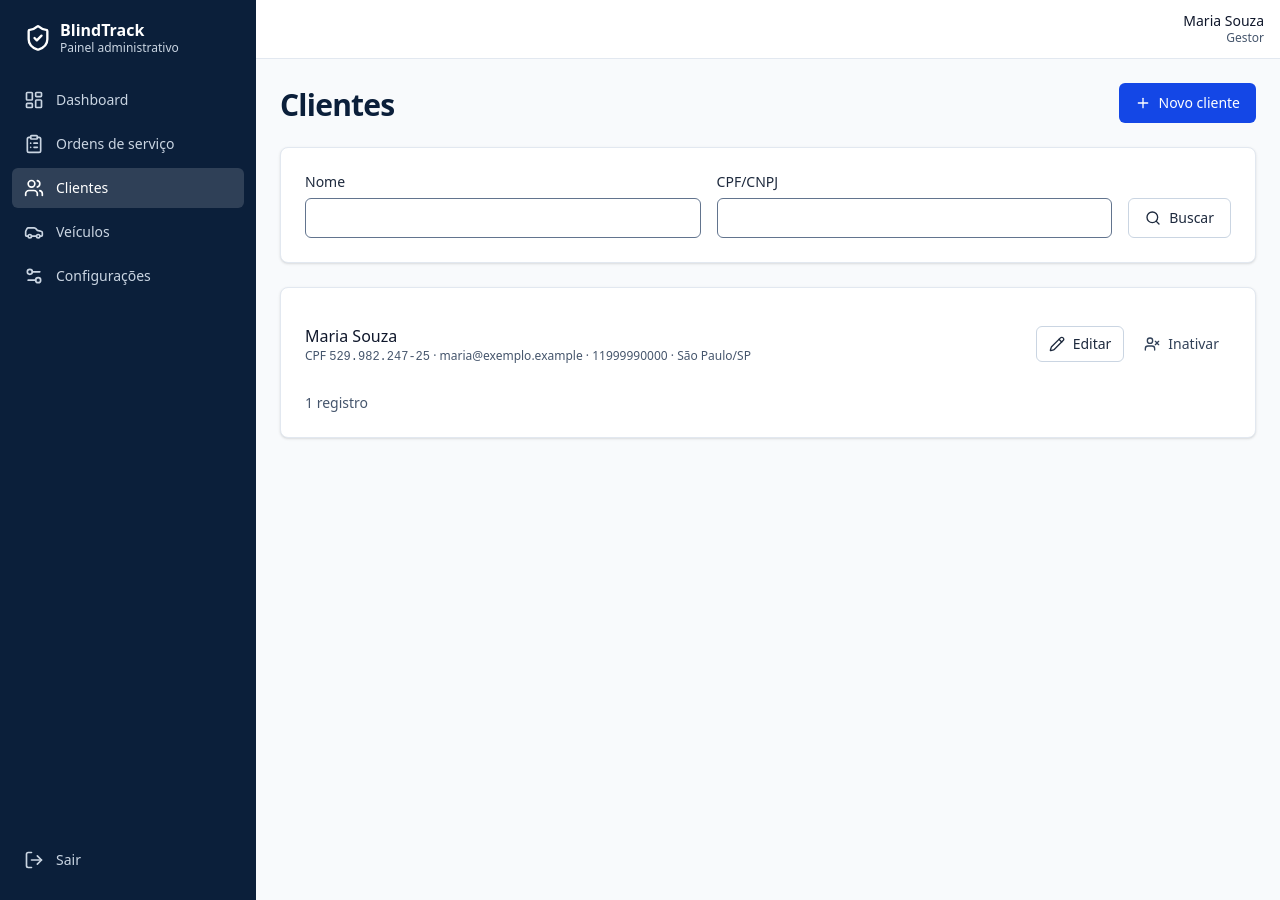
Test case: Clientes › inativar cliente com OS em aberto mostra a regra RN36
Click the button with aria-label "Inativar Maria Souza".
click(1182, 344)  # box left=1132, top=326, right=1231, bottom=362
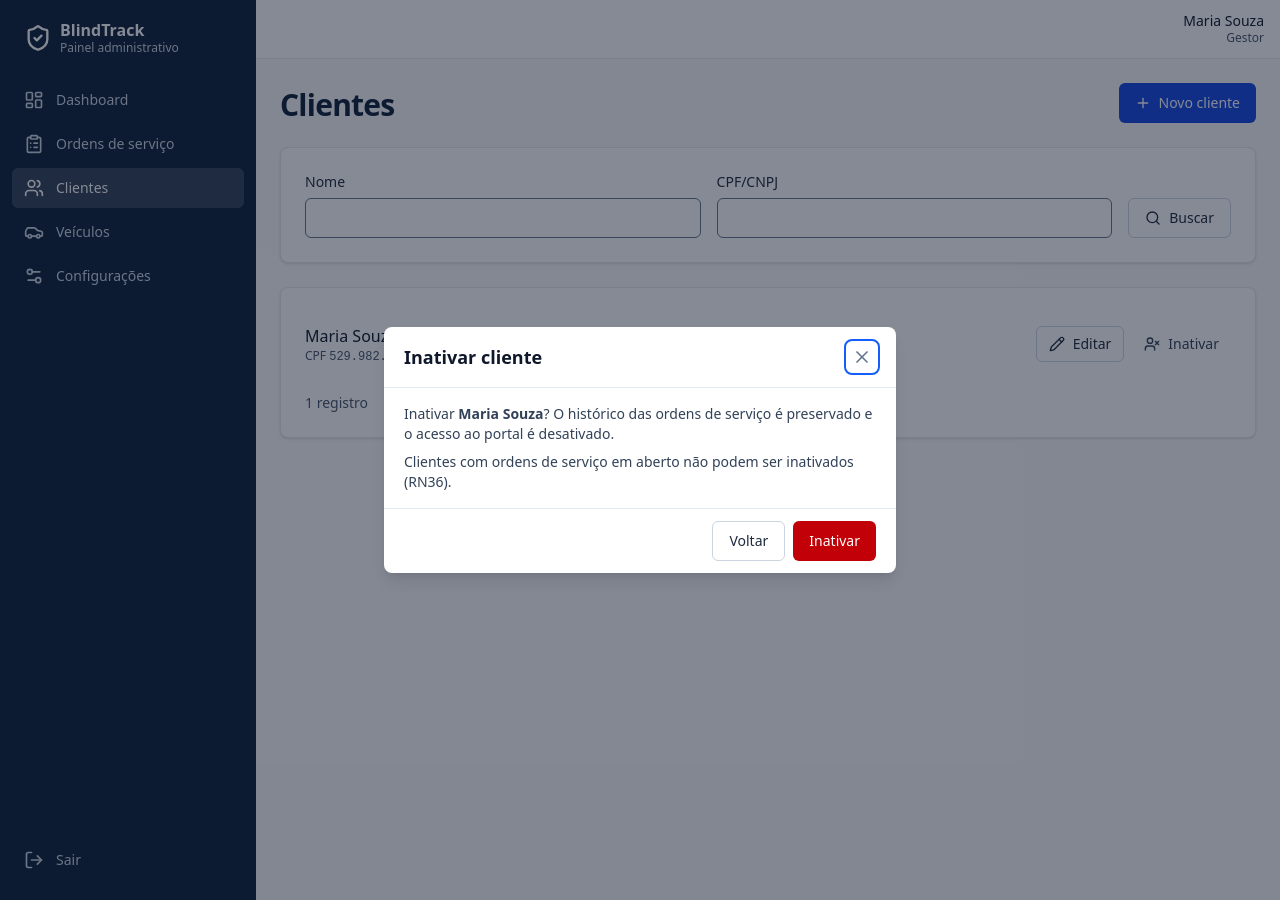
Click the button "Inativar".
click(835, 541)  # box left=793, top=521, right=876, bottom=561
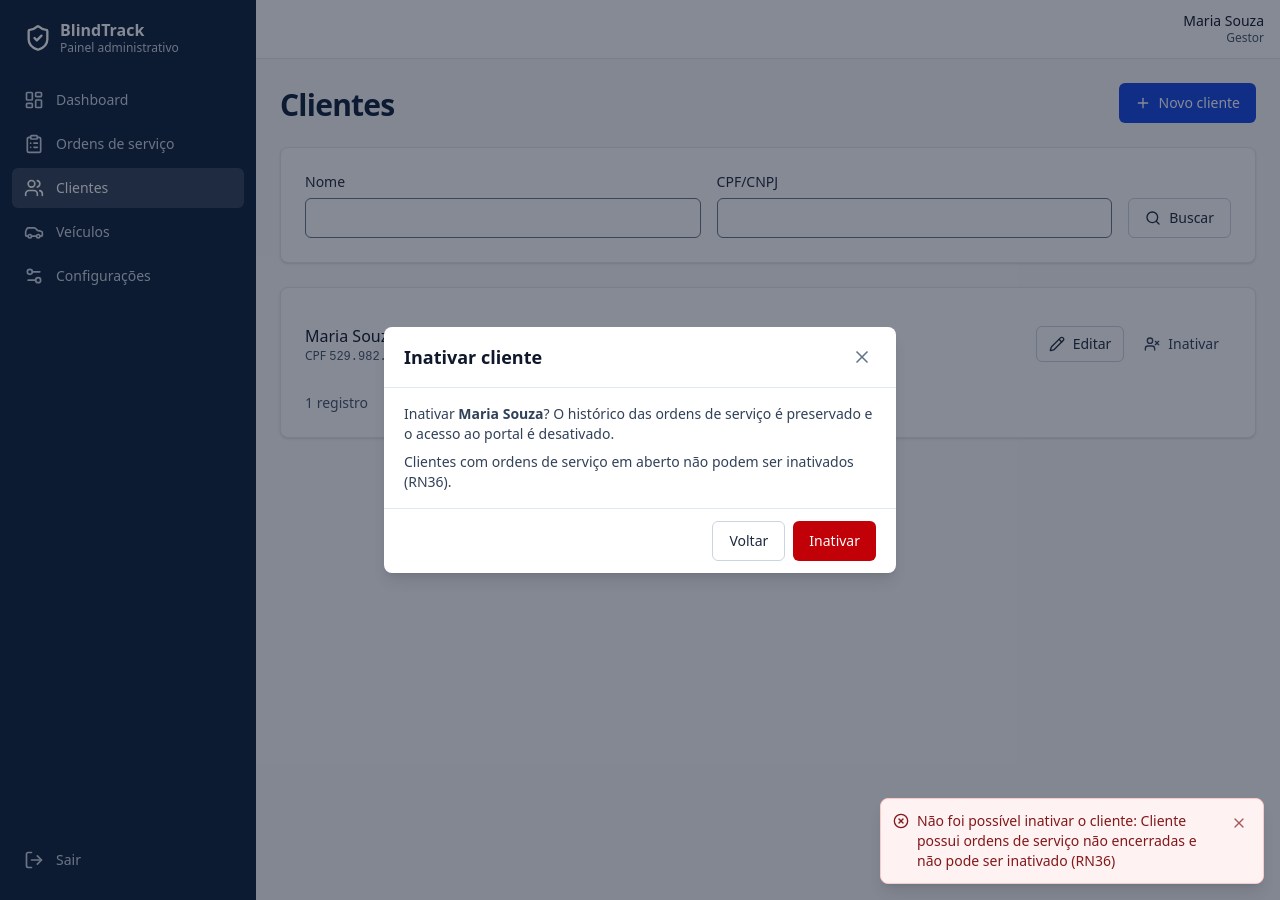
Expected: the text "não pode ser inativado (RN36)" is shown, left=917, top=811, right=1197, bottom=870
